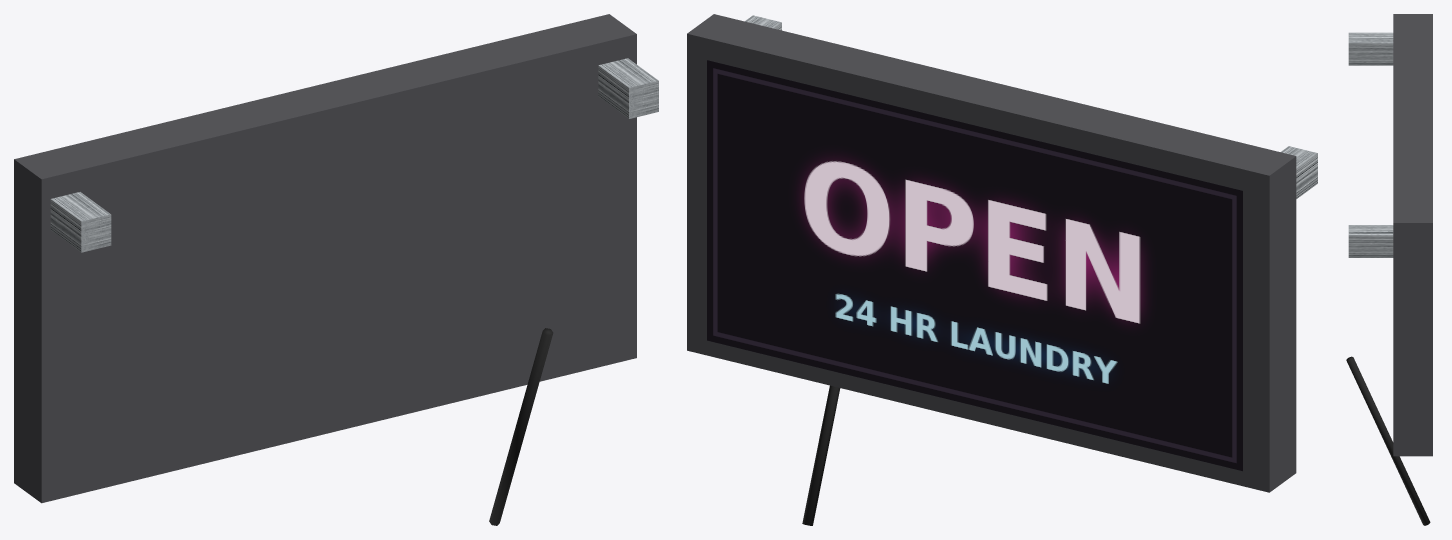
Rendered from WK_LGT_NeonOpen.glb.
3 views of the same model, side by side, from view 1: azimuth 30°, elevation 25°; view 2: azimuth 150°, elevation 25°; view 3: azimuth 270°, elevation 25° (orthographic). The views are drawn at different scales.
Parts seen in each view (by area): view 1: WK_LGT_NeonOpen_P01, WK_LGT_NeonOpen_P03, WK_LGT_NeonOpen_P04, WK_LGT_NeonOpen_P05; view 2: WK_LGT_NeonOpen_P02, WK_LGT_NeonOpen_P01, WK_LGT_NeonOpen_P05, WK_LGT_NeonOpen_P03; view 3: WK_LGT_NeonOpen_P01, WK_LGT_NeonOpen_P03, WK_LGT_NeonOpen_P04, WK_LGT_NeonOpen_P05.
Part boxes in pixels (x1,y1,x2,y2): WK_LGT_NeonOpen_P01: (14,14,636,503); WK_LGT_NeonOpen_P03: (50,192,111,252); WK_LGT_NeonOpen_P04: (598,58,658,118); WK_LGT_NeonOpen_P05: (489,328,553,525); WK_LGT_NeonOpen_P02: (707,60,1242,471); WK_LGT_NeonOpen_P01: (687,14,1296,492); WK_LGT_NeonOpen_P05: (802,385,840,525); WK_LGT_NeonOpen_P03: (1280,146,1317,198); WK_LGT_NeonOpen_P01: (1393,14,1432,456); WK_LGT_NeonOpen_P03: (1348,32,1393,65); WK_LGT_NeonOpen_P04: (1348,225,1393,257); WK_LGT_NeonOpen_P05: (1346,356,1430,525).
Size of the model in its own units: 1 by 0.7673 by 0.1853.
4 materials, 2 textured.
